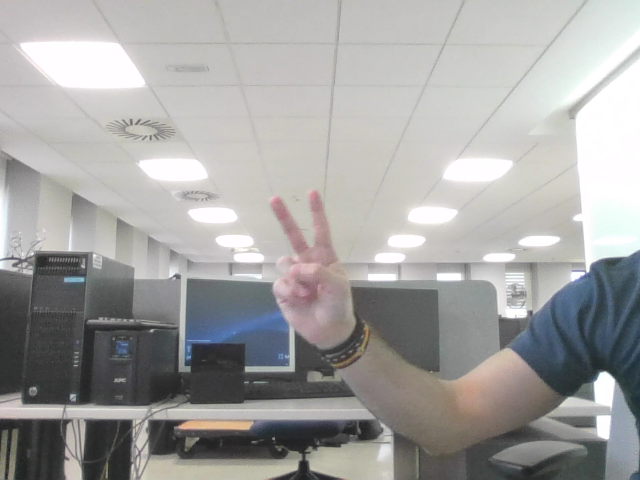2Dedos: (279, 201, 336, 304)
